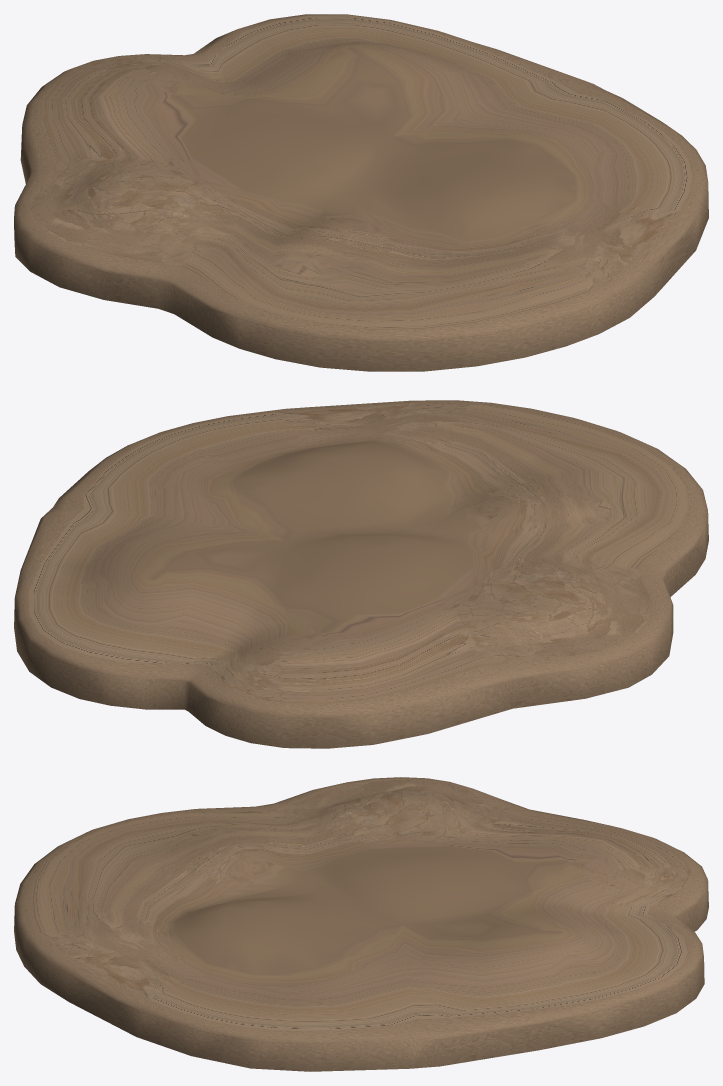
File: saltmine_floor_light_cracks_03.dae
3 renders of one model, top to bottom at view 1: azimuth 30°, elevation 25°; view 2: azimuth 150°, elevation 25°; view 3: azimuth 270°, elevation 25°, orthographic. The views are drawn at different scales.
Visible parts, largest first — view 1: floor_03_light_cracked; view 2: floor_03_light_cracked; view 3: floor_03_light_cracked.
Boxes of the visible parts, box(x1,y1,x2,y2) form: floor_03_light_cracked: box(14, 14, 708, 371); floor_03_light_cracked: box(14, 400, 708, 748); floor_03_light_cracked: box(14, 777, 708, 1071).
Size of the model in its own units: 5.11 by 0.4929 by 5.63.
